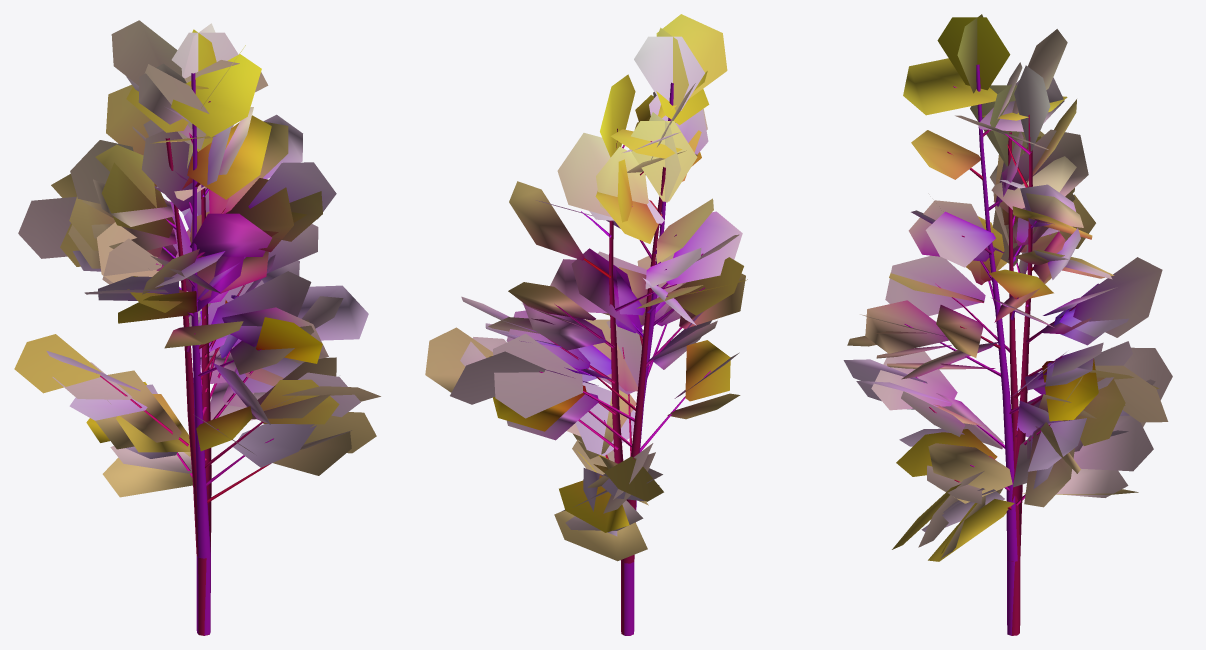
The model's file is sapling_maple.glb.
3 renders of one model, left to right at view 1: azimuth 30°, elevation 25°; view 2: azimuth 150°, elevation 25°; view 3: azimuth 270°, elevation 25°, orthographic. The views are drawn at different scales.
Parts seen in each view (by area): view 1: sapling_maple_v2_lod0, sapling_maple_v1_lod0, sapling_maple_v0_lod0; view 2: sapling_maple_v2_lod0, sapling_maple_v1_lod0, sapling_maple_v0_lod0; view 3: sapling_maple_v2_lod0, sapling_maple_v1_lod0, sapling_maple_v0_lod0.
Boxes of the visible parts, bbox=[...] form: sapling_maple_v2_lod0: bbox=[84, 20, 336, 635]; sapling_maple_v1_lod0: bbox=[14, 23, 368, 551]; sapling_maple_v0_lod0: bbox=[18, 138, 380, 635]; sapling_maple_v2_lod0: bbox=[450, 14, 747, 635]; sapling_maple_v1_lod0: bbox=[425, 74, 697, 561]; sapling_maple_v0_lod0: bbox=[489, 112, 745, 635]; sapling_maple_v2_lod0: bbox=[843, 14, 1168, 635]; sapling_maple_v1_lod0: bbox=[955, 65, 1172, 555]; sapling_maple_v0_lod0: bbox=[885, 84, 1096, 635].
Size of what is drawn, in the model's own units: 2.69 by 4.88 by 2.7.
